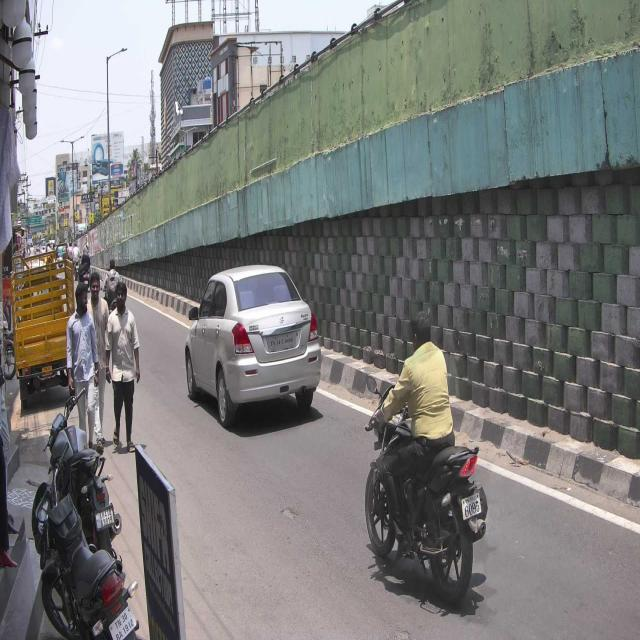single_rider: (362, 307, 490, 606)
